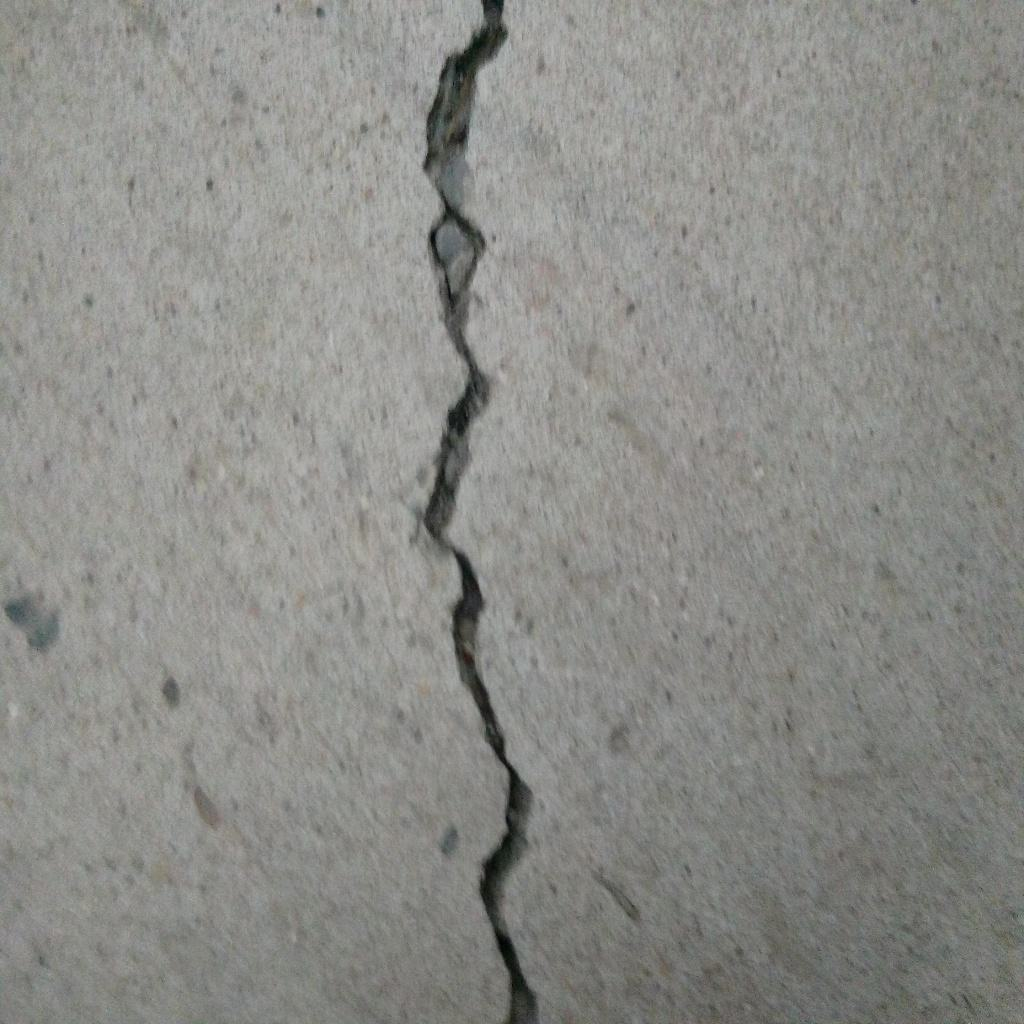Crack: (419, 1, 539, 1024)
